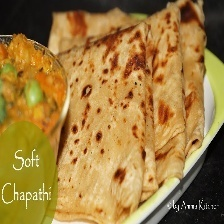roti: (38, 0, 209, 223)
